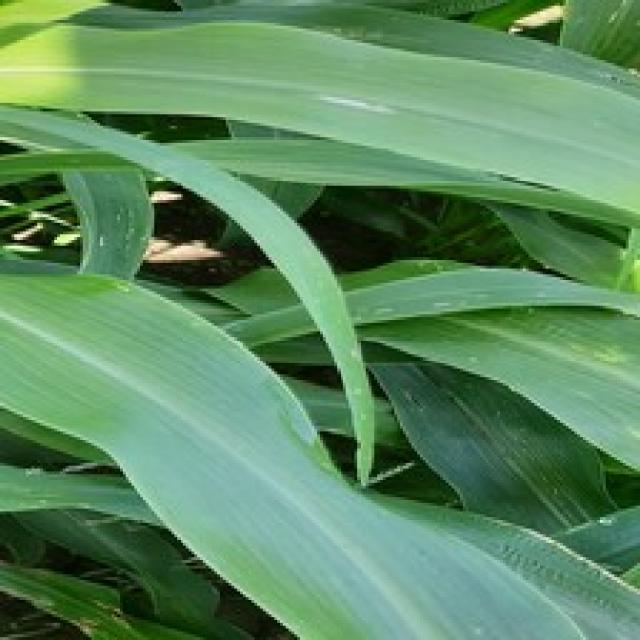Corn: (0, 0, 637, 637), (0, 0, 637, 240)
